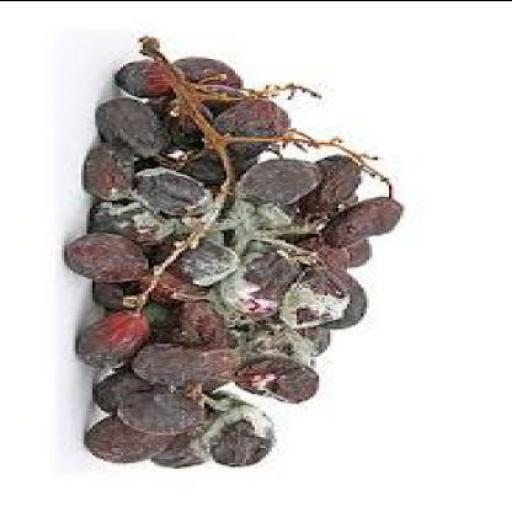biodegradable: (207, 251, 303, 316), (136, 339, 232, 391), (157, 232, 243, 290), (98, 98, 176, 160), (84, 415, 173, 466), (132, 167, 218, 218), (81, 311, 154, 371), (215, 102, 291, 159), (120, 387, 206, 436), (92, 203, 185, 246), (233, 162, 321, 207), (70, 232, 148, 282), (324, 199, 403, 248), (215, 406, 277, 467), (240, 358, 322, 404), (297, 156, 363, 213), (291, 270, 353, 329), (90, 143, 143, 207), (179, 58, 249, 106), (226, 202, 306, 244), (95, 366, 157, 416), (244, 324, 316, 366), (146, 265, 212, 309), (328, 274, 375, 332), (182, 150, 260, 184), (182, 305, 232, 352), (168, 104, 212, 153), (162, 426, 210, 470), (118, 64, 179, 98), (150, 298, 188, 348), (95, 280, 151, 312), (300, 239, 352, 273), (302, 322, 333, 360), (347, 240, 372, 268), (204, 226, 229, 245)
